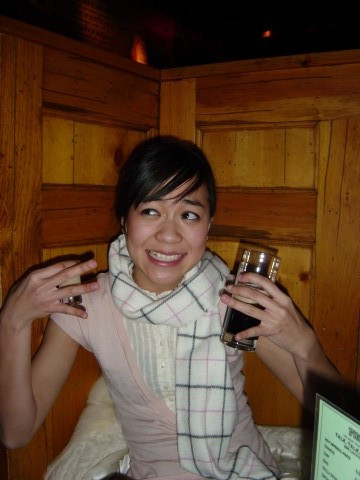person: (1, 136, 345, 480)
